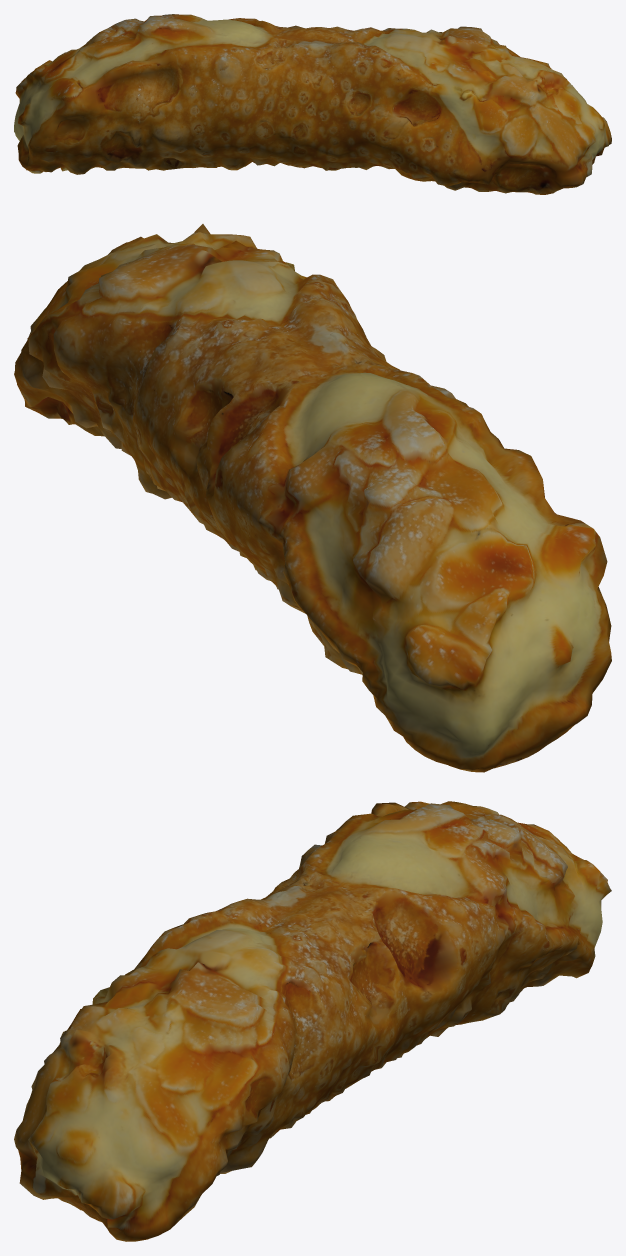
3 views of the same model, one above another, from view 1: azimuth 30°, elevation 25°; view 2: azimuth 150°, elevation 25°; view 3: azimuth 270°, elevation 25° (orthographic). The views are drawn at different scales.
Parts seen in each view (by area): view 1: cannolo-03.002; view 2: cannolo-03.002; view 3: cannolo-03.002.
Boxes of the visible parts, x1=… form: cannolo-03.002: x1=14, y1=14, x2=611, y2=194; cannolo-03.002: x1=14, y1=224, x2=611, y2=772; cannolo-03.002: x1=14, y1=801, x2=611, y2=1241.
Bounding box in the file's own units: 2.71 × 0.8606 × 2.11.
Materials: 1 (1 with a texture image).
